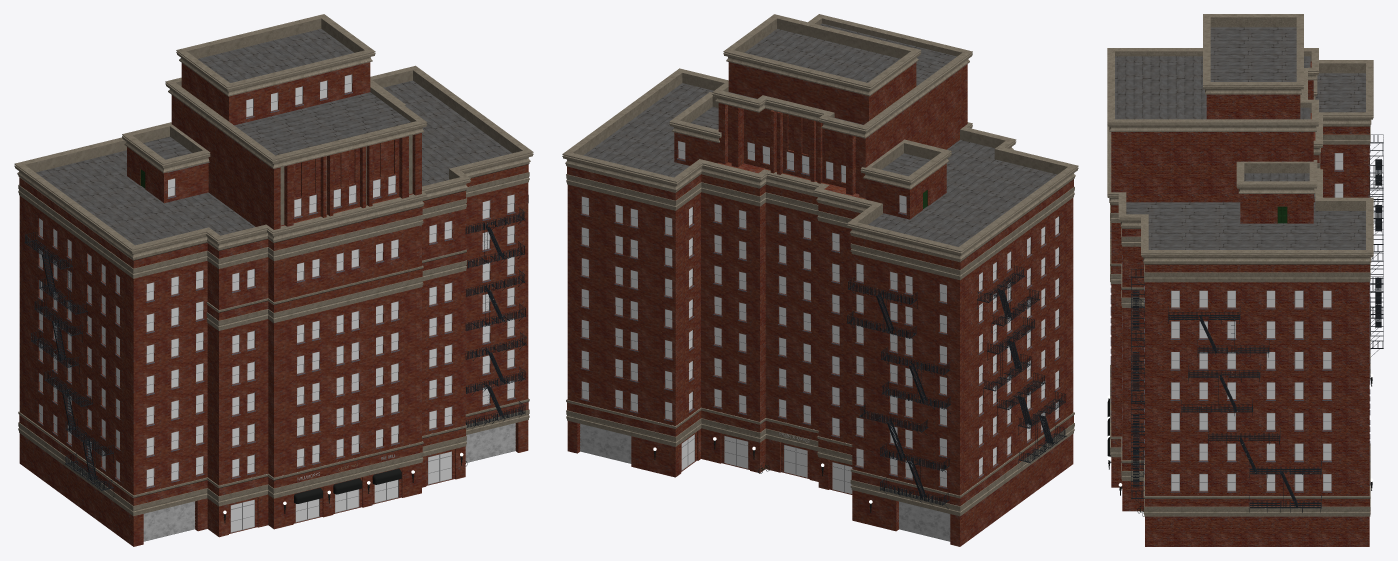
File: Building_06.fbx
3 renders of one model, left to right at view 1: azimuth 30°, elevation 25°; view 2: azimuth 150°, elevation 25°; view 3: azimuth 270°, elevation 25°, orthographic.
Parts seen in each view (by area): view 1: Building_05_LOD0; view 2: Building_05_LOD0; view 3: Building_05_LOD0.
Part boxes in pixels (x1=…): Building_05_LOD0: x1=14, y1=14, x2=533, y2=546; Building_05_LOD0: x1=562, y1=14, x2=1078, y2=546; Building_05_LOD0: x1=1107, y1=14, x2=1383, y2=546.
Size of what is drawn, in the model's own units: 5198 by 4817 by 2996.
